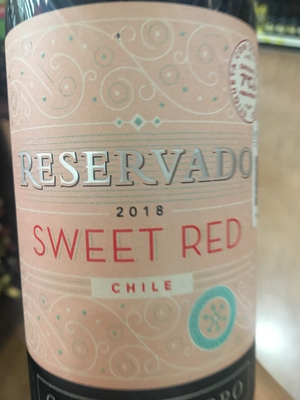reservado sweet red: (5, 4, 261, 400)
